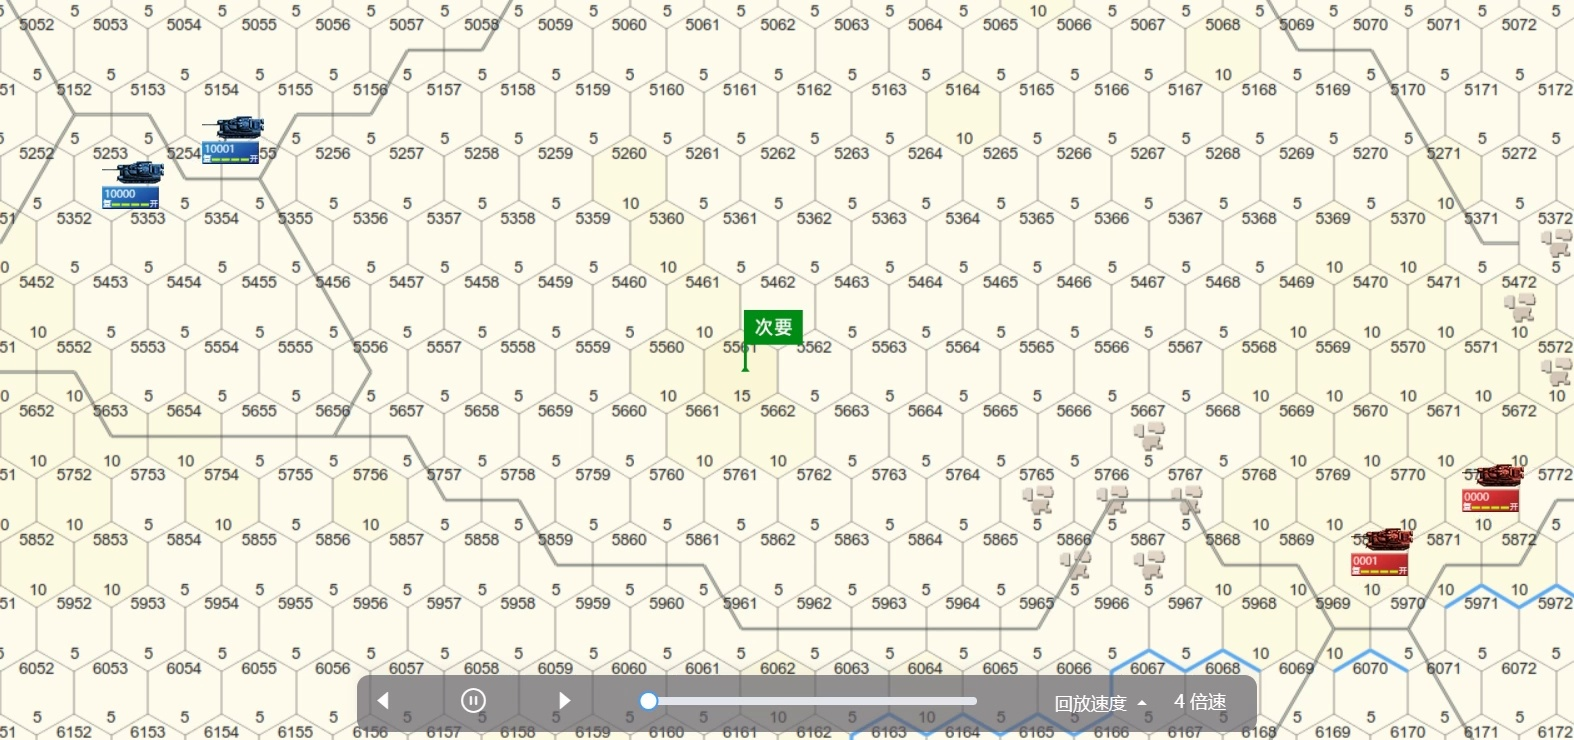blue_tank: (99, 156, 162, 219), (196, 118, 256, 178)
red_tank: (1354, 523, 1419, 588), (1460, 459, 1524, 523)
